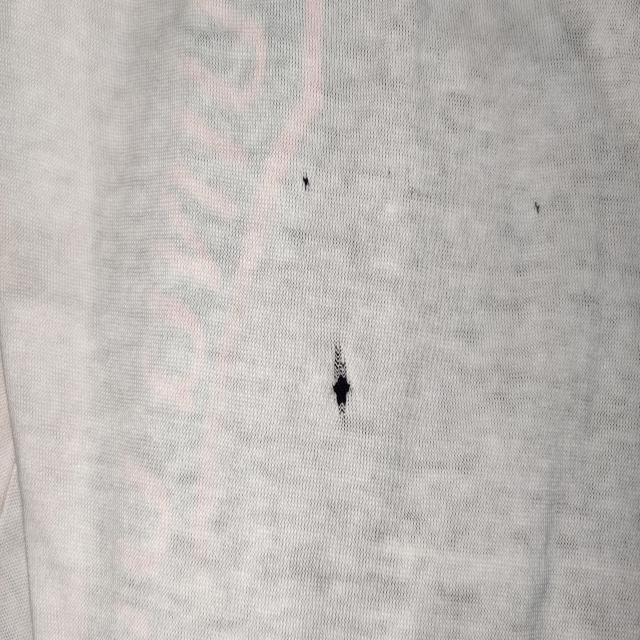Hole: (333, 340, 351, 417), (531, 197, 542, 222), (302, 170, 310, 192)
